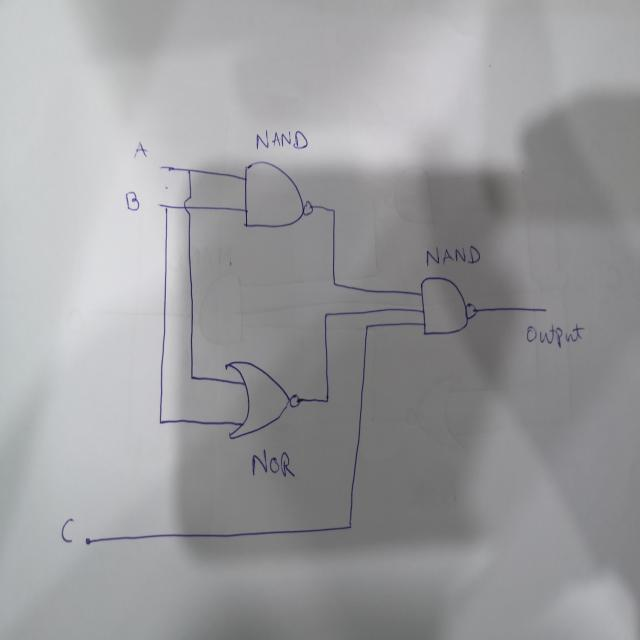crossover: (182, 195, 192, 217)
junction: (322, 390, 332, 408), (345, 520, 355, 533), (328, 202, 338, 215), (329, 276, 338, 290), (163, 202, 171, 212), (188, 371, 195, 382), (363, 320, 370, 331), (322, 310, 329, 320), (157, 417, 164, 426), (185, 165, 192, 174)
terminal: (83, 534, 92, 548), (540, 303, 548, 315), (158, 161, 165, 172), (156, 201, 162, 209)
text: (525, 320, 583, 350), (252, 448, 295, 482), (425, 243, 481, 268), (254, 126, 308, 151), (60, 514, 76, 544), (124, 189, 140, 212), (132, 140, 147, 160)
